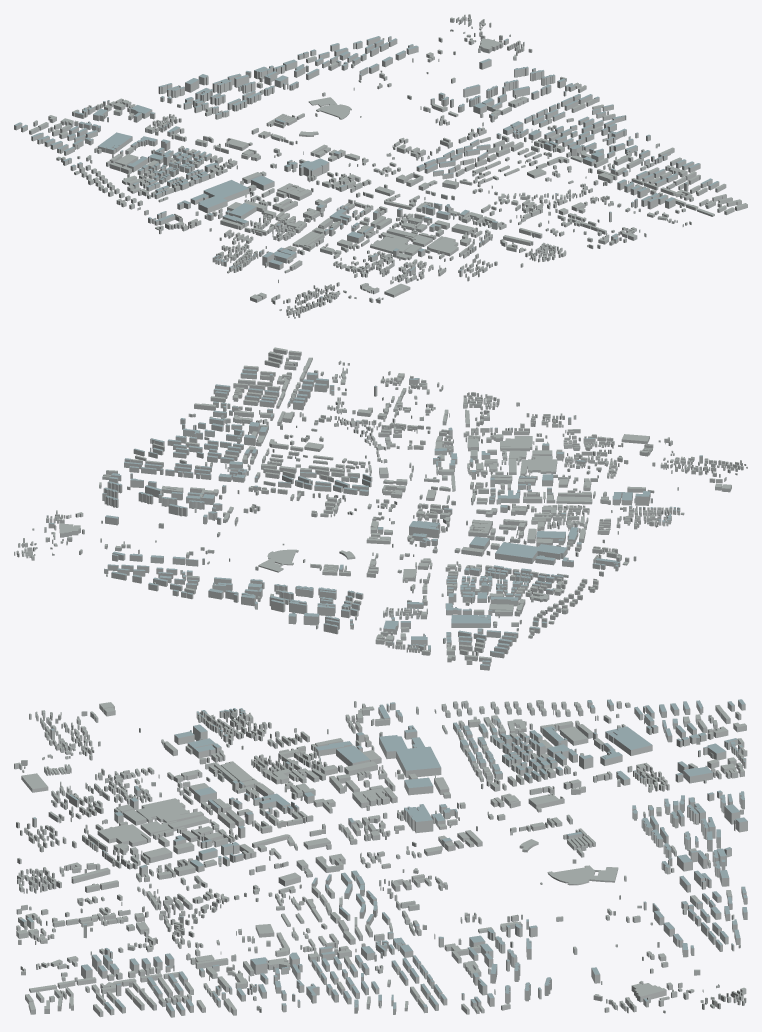
Rendered from far.glb.
3 views of the same model, one above another, from view 1: azimuth 30°, elevation 25°; view 2: azimuth 150°, elevation 25°; view 3: azimuth 270°, elevation 25° (orthographic). The views are drawn at different scales.
Size of the model in its own units: 2127 by 40.56 by 2107.
